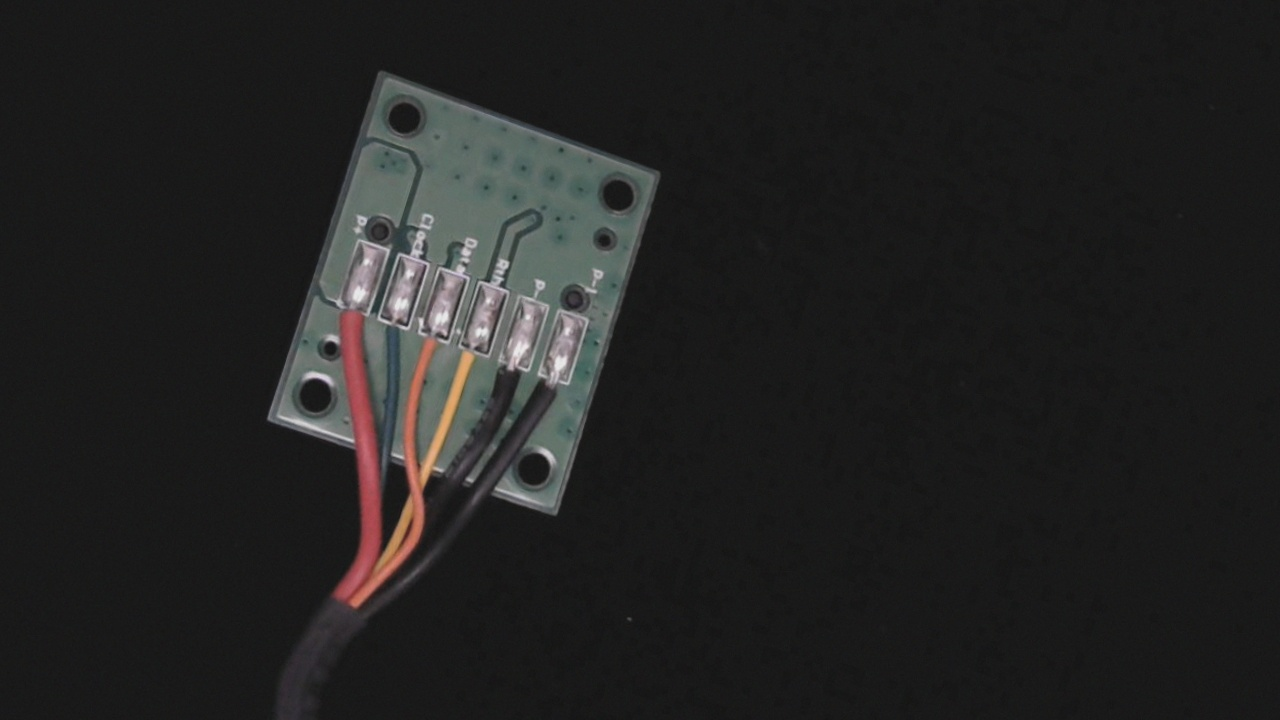Black: (476, 342, 536, 425)
Black1: (524, 358, 577, 433)
Green: (356, 297, 417, 383)
Orange: (398, 313, 457, 401)
Red: (317, 286, 377, 373)
Yellow: (441, 327, 496, 404)
